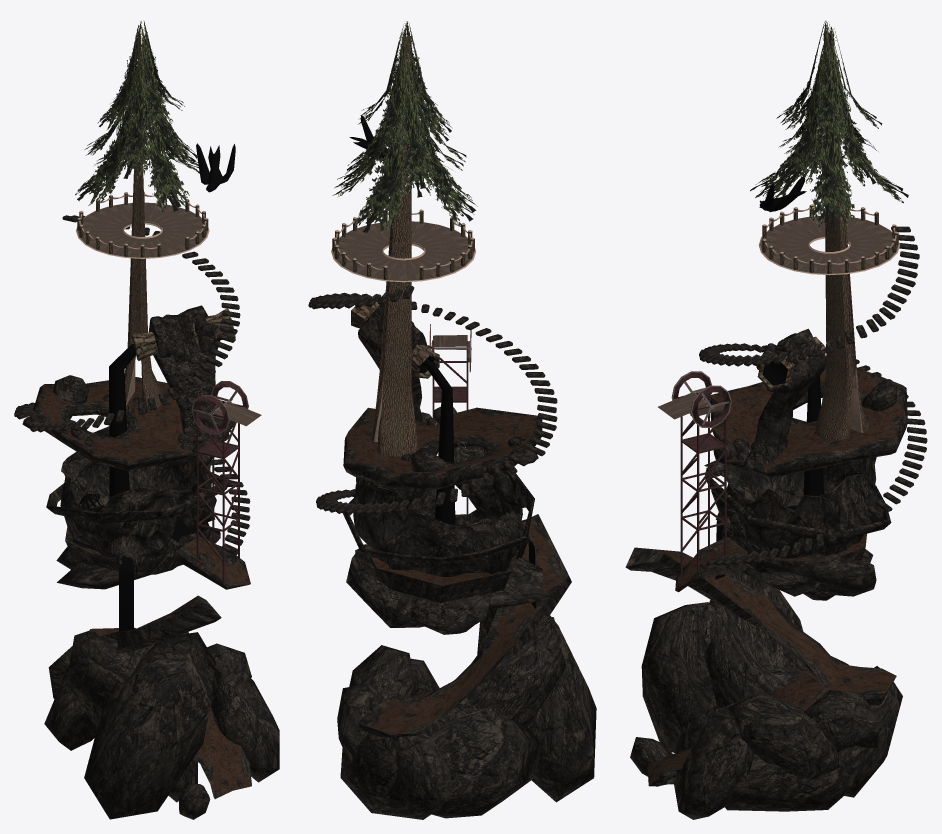
The model's file is LoveDeath_Tower_Art.glb.
3 renders of one model, left to right at view 1: azimuth 30°, elevation 25°; view 2: azimuth 150°, elevation 25°; view 3: azimuth 270°, elevation 25°, orthographic. The views are drawn at different scales.
Visible parts, largest first — view 1: LoveDeath_Tower_Art; view 2: LoveDeath_Tower_Art; view 3: LoveDeath_Tower_Art.
Part boxes in pixels (<box>): LoveDeath_Tower_Art: <box>14,21,279,819</box>; LoveDeath_Tower_Art: <box>308,21,596,819</box>; LoveDeath_Tower_Art: <box>625,20,927,819</box>.
Bounding box in the file's own units: 15.57 × 55.04 × 19.2.
Materials: 6 (6 with a texture image).
